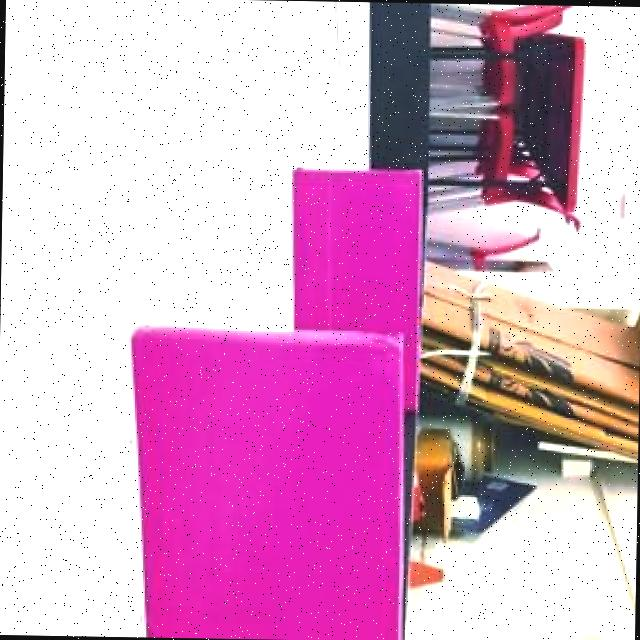xparking: (141, 332, 402, 640), (285, 168, 426, 326)
